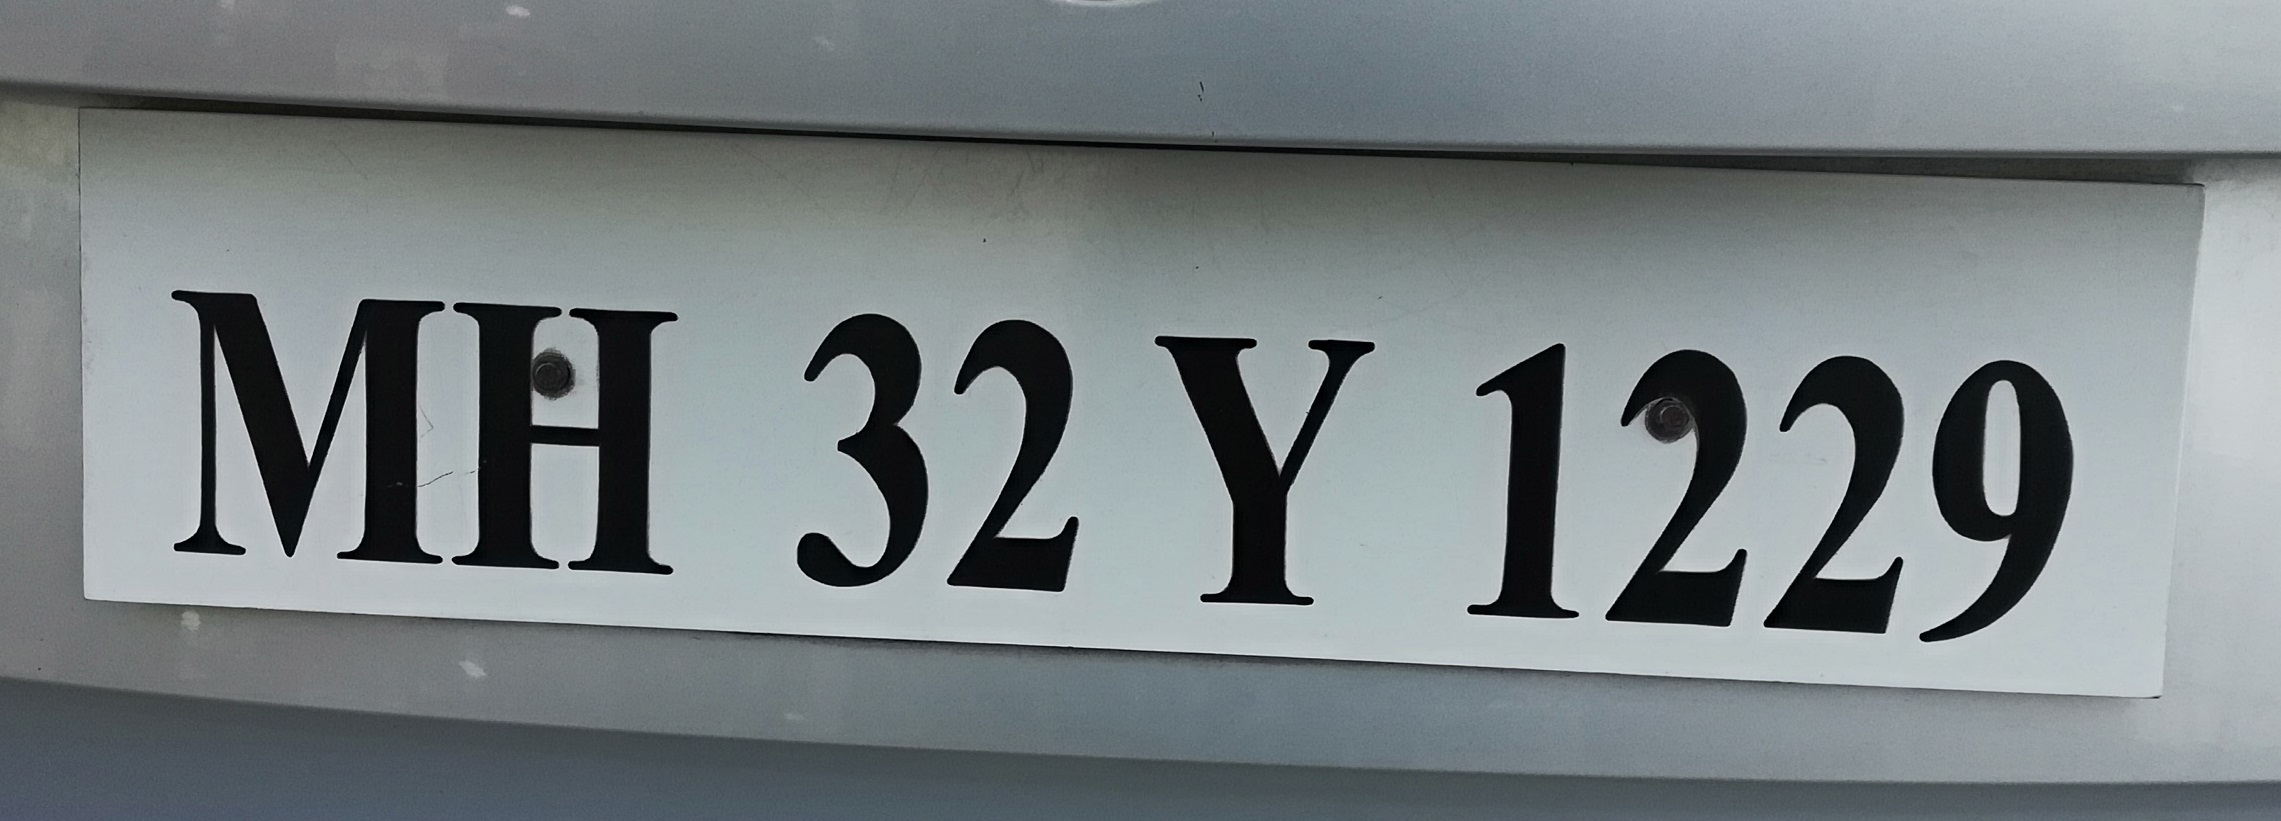numberplate: (66, 103, 2198, 707)
